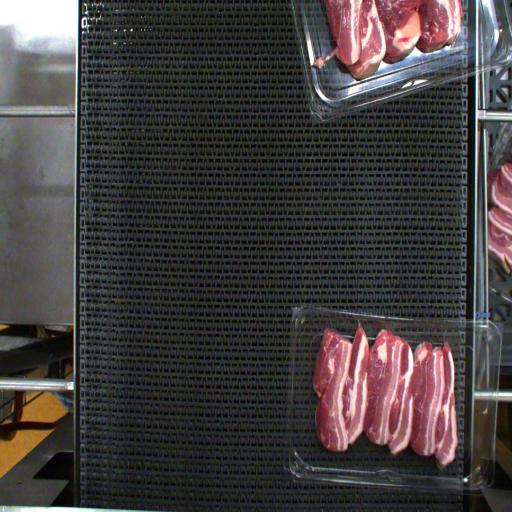packaging-error: (381, 323, 393, 333), (355, 317, 364, 327)
